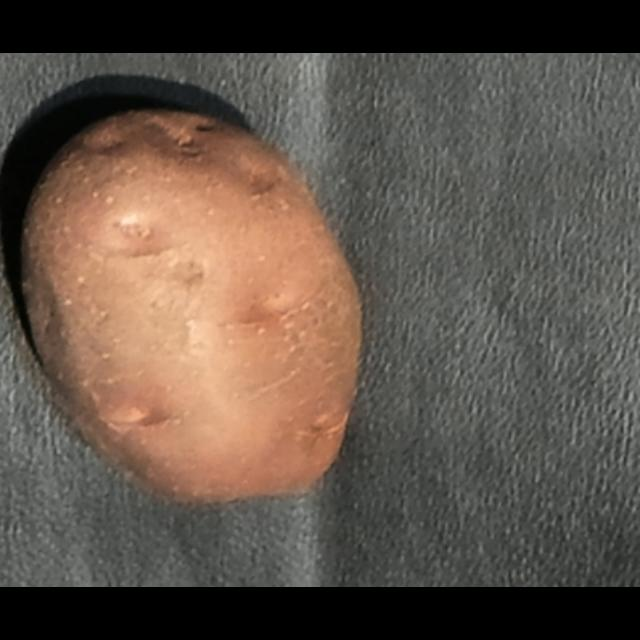Diseased-fungal potato: (9, 94, 367, 514)
